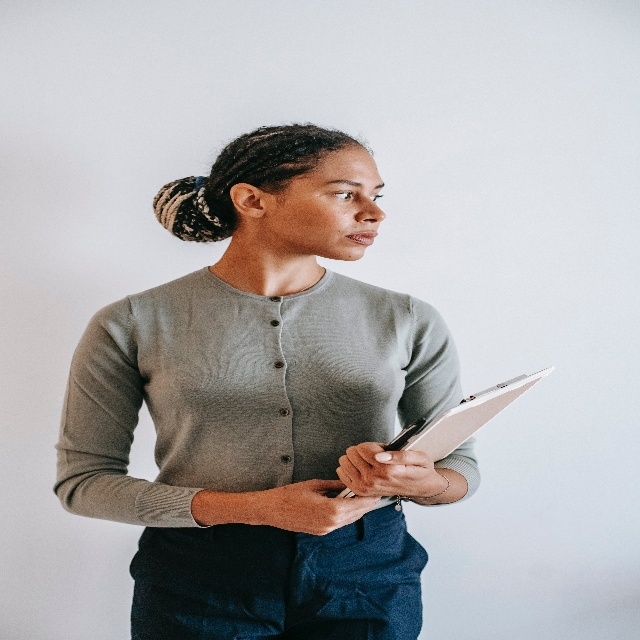Sin_guantes: (272, 477, 382, 538), (336, 434, 438, 497)
